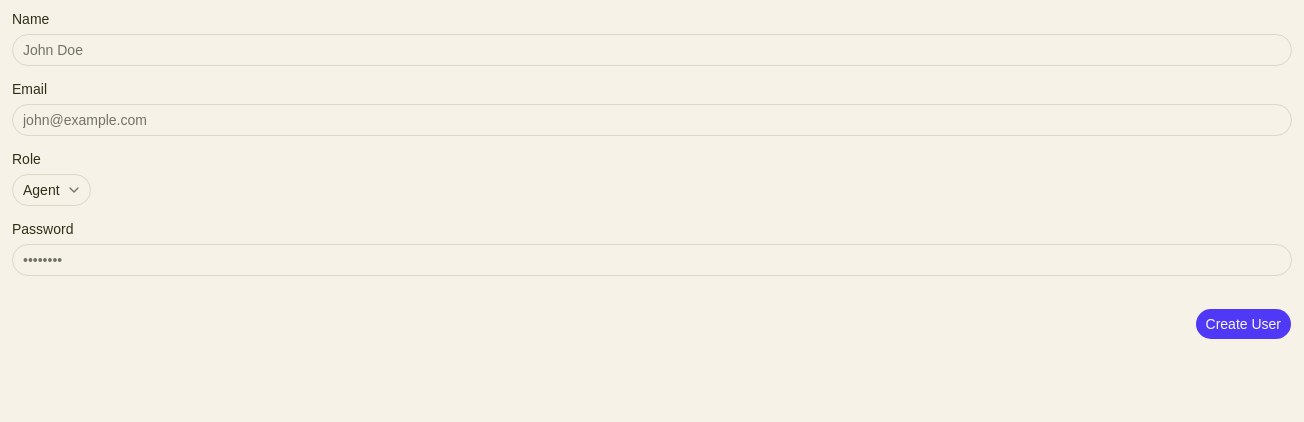
Scenario: UserForm Component › displays API error message on failure
Type "Admin User" into the field with placeholder "John Doe" at (652, 50), box [12,34,1292,66]
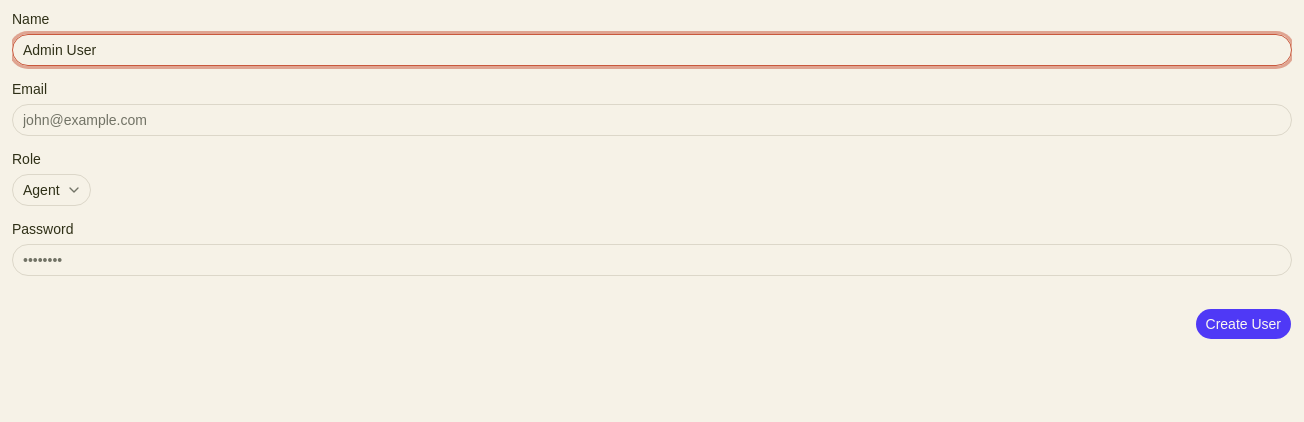
Type "admin@example.com" into the field with placeholder "john@example.com" at (652, 120), box [12,104,1292,136]
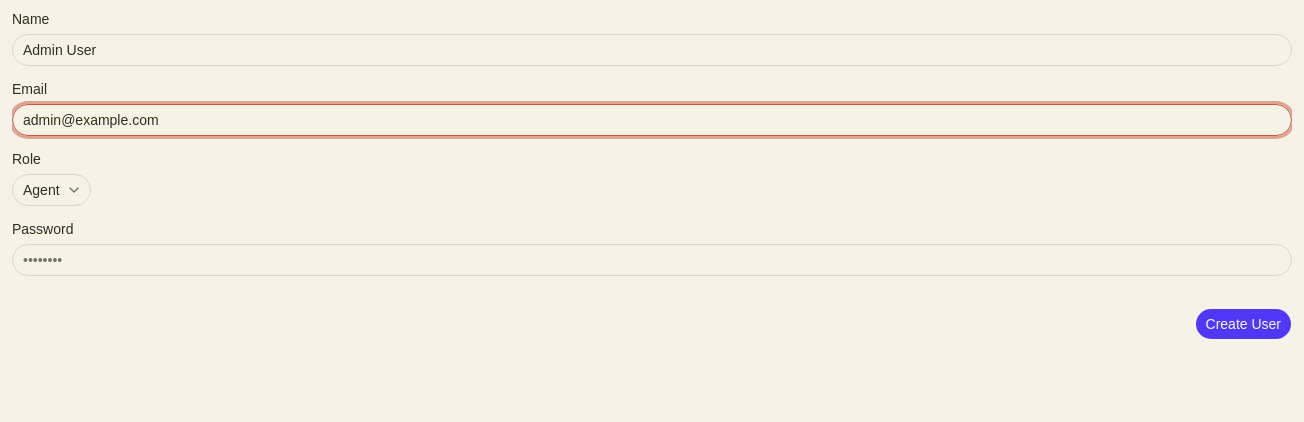
Type "Password123!" into the password field with placeholder "••••••••" at (652, 260), box [12,244,1292,276]
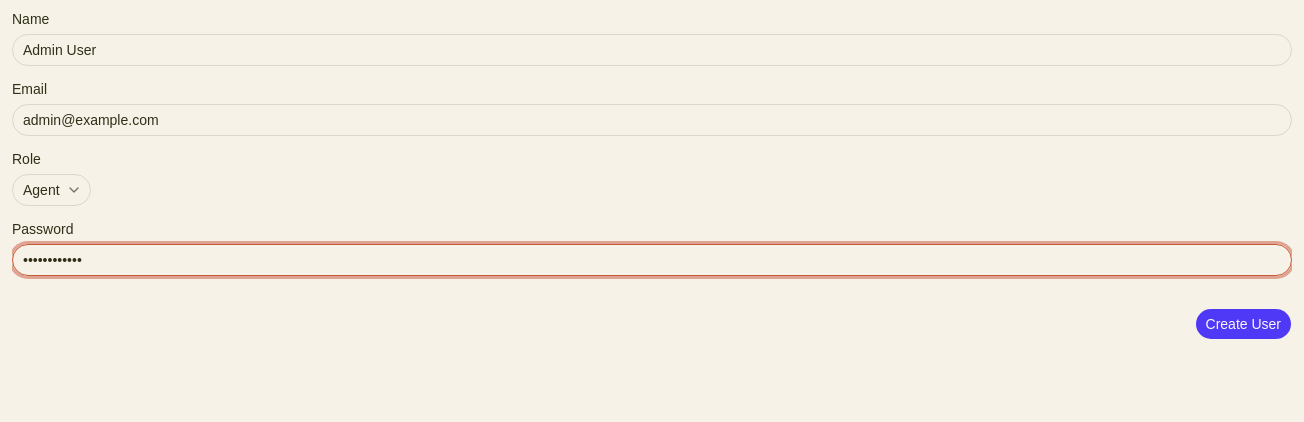
Click the button "Create User" at (1243, 324), box [1194,308,1292,340]
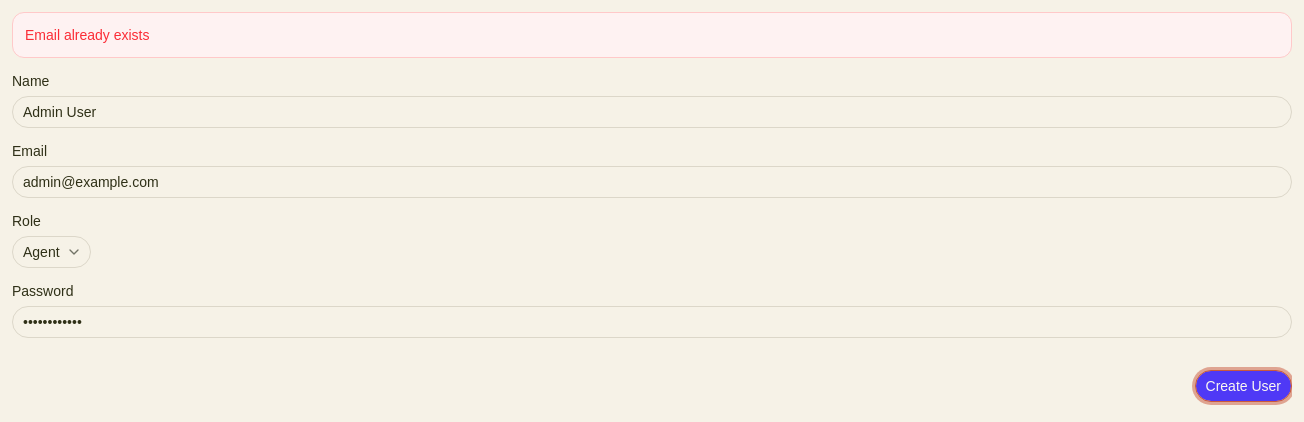
Expected: the text "Email already exists" is shown, [12,12,1292,58]
